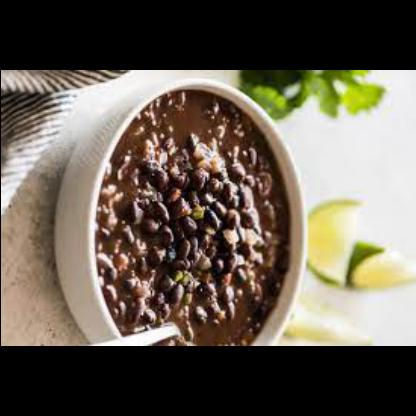black beans: (95, 91, 290, 345)
